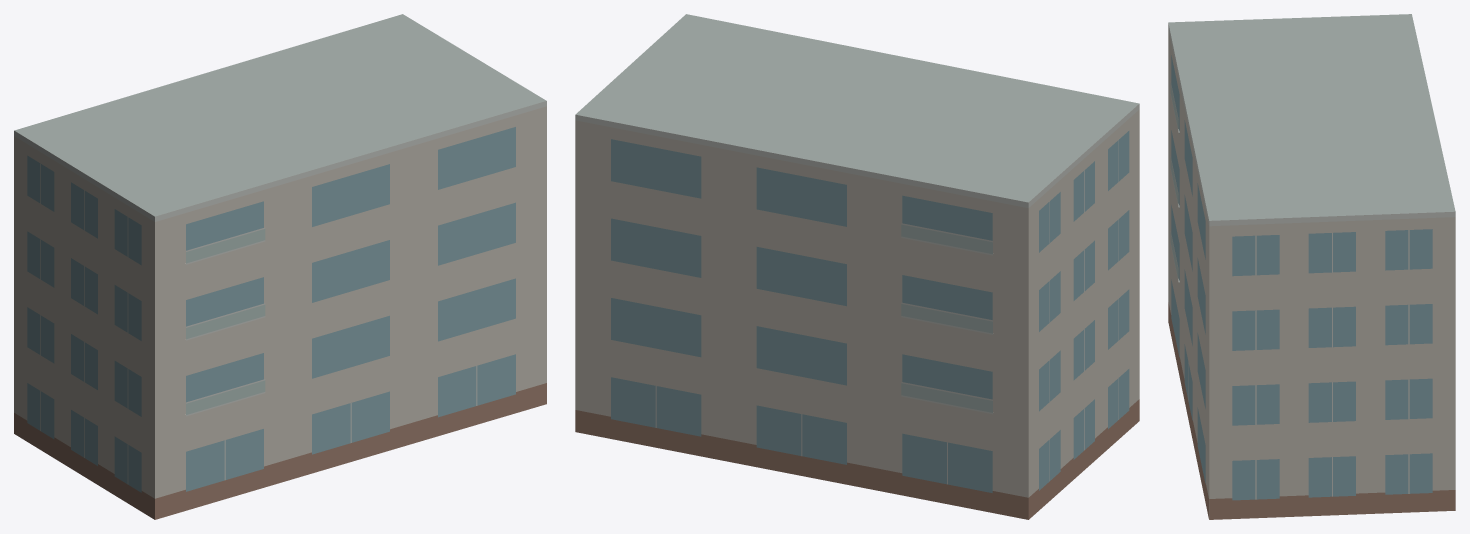
File: survey-upis-32755225.glb
The picture shows the model from 3 angles, left to right: view 1: azimuth 30°, elevation 25°; view 2: azimuth 150°, elevation 25°; view 3: azimuth 270°, elevation 25°; orthographic projection. The views are drawn at different scales.
Parts seen in each view (by area): view 1: survey-upis-32755225.tmp; view 2: survey-upis-32755225.tmp; view 3: survey-upis-32755225.tmp.
Part boxes in pixels (x1,y1,x2,y2): survey-upis-32755225.tmp: [14, 14, 546, 519]; survey-upis-32755225.tmp: [575, 14, 1139, 519]; survey-upis-32755225.tmp: [1168, 14, 1455, 519].
Size of the model in its own units: 20.19 by 13.6 by 11.86.
